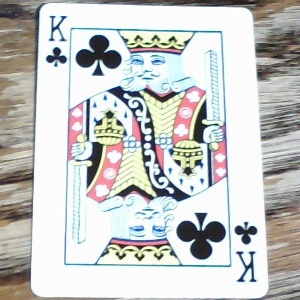card: (29, 1, 270, 299)
